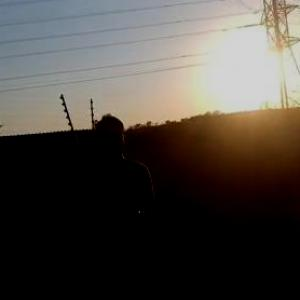follow: (74, 108, 164, 299)
